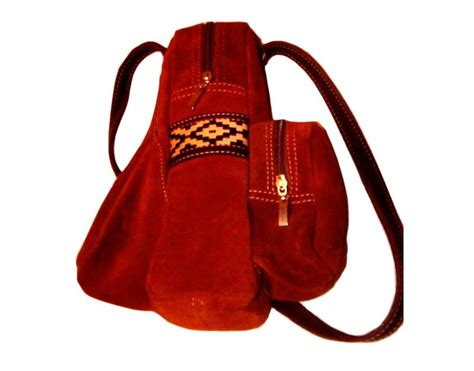cuero: (73, 20, 404, 343)
